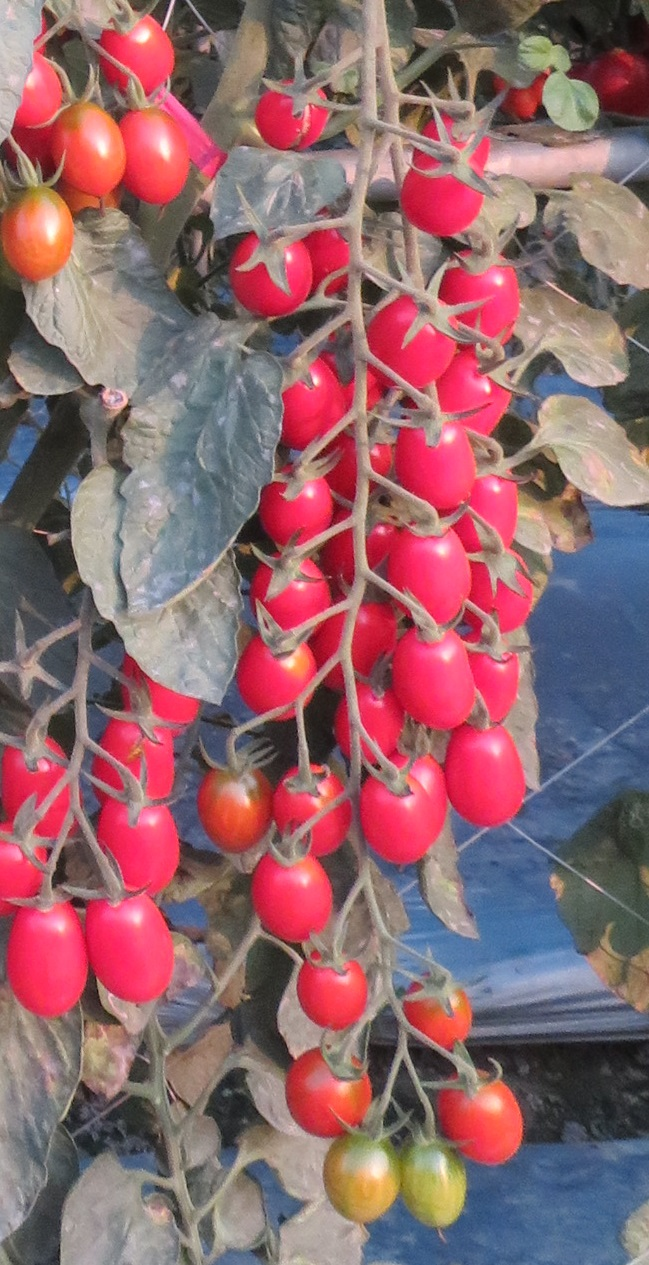green: (399, 1132, 472, 1238), (330, 1130, 403, 1230)
orange: (437, 1062, 532, 1169), (274, 1045, 376, 1129), (118, 96, 191, 209), (11, 184, 86, 290), (54, 103, 124, 198), (404, 974, 480, 1057), (196, 758, 261, 853)
red: (86, 886, 183, 1011), (359, 750, 442, 869), (383, 528, 474, 634), (11, 900, 86, 1021), (451, 719, 533, 825), (97, 791, 184, 887), (257, 845, 342, 942), (395, 633, 476, 732), (382, 157, 483, 236), (368, 296, 453, 387), (396, 411, 470, 515), (255, 465, 341, 550), (270, 766, 350, 853), (300, 950, 378, 1036), (440, 257, 526, 333), (245, 633, 324, 713), (253, 554, 333, 633), (104, 716, 184, 790), (234, 241, 308, 317), (108, 23, 186, 90), (293, 354, 351, 442), (268, 87, 342, 149), (480, 640, 524, 724)
